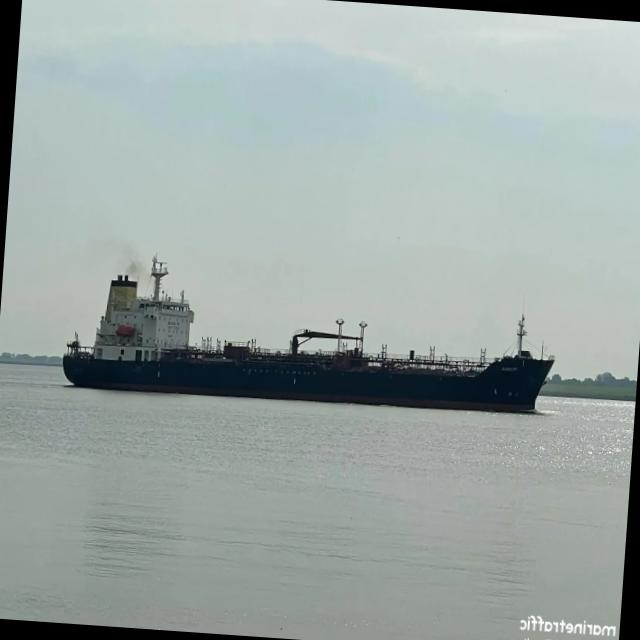Tanker: (62, 257, 554, 412)
